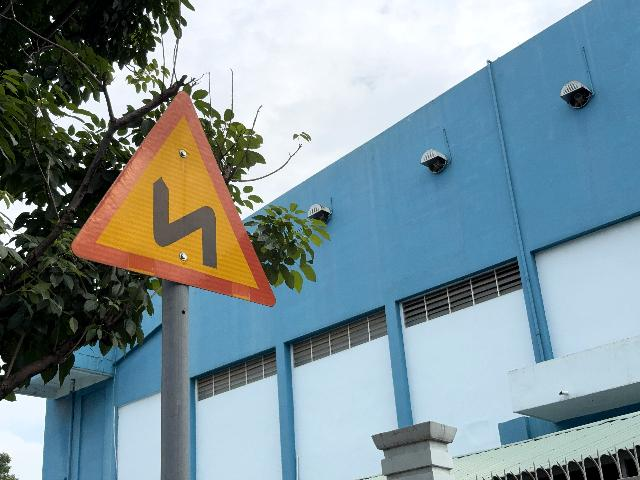nhieu-cho-ngoat-nguy-hiem-lien-tiep: (70, 90, 276, 307)
